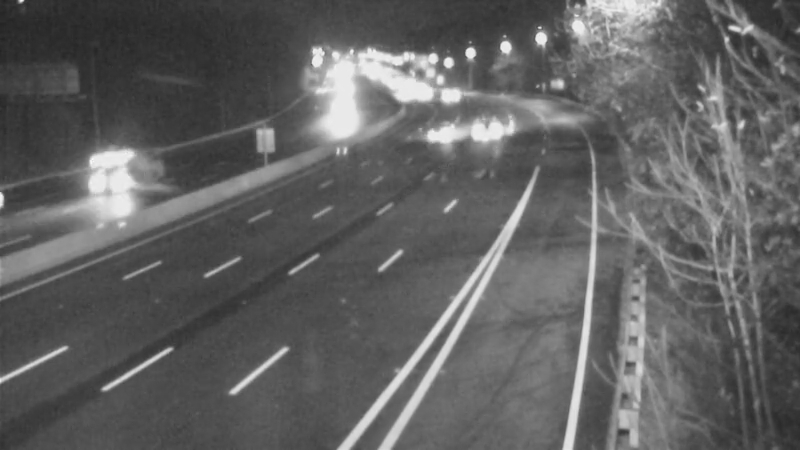vehicle: (68, 138, 148, 218), (423, 68, 473, 118), (458, 103, 508, 153), (410, 111, 460, 161), (313, 103, 363, 153)
